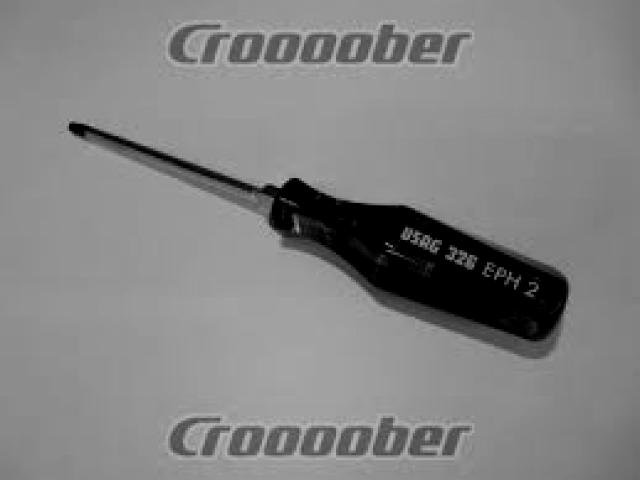Screwdriver: (69, 124, 568, 340)
